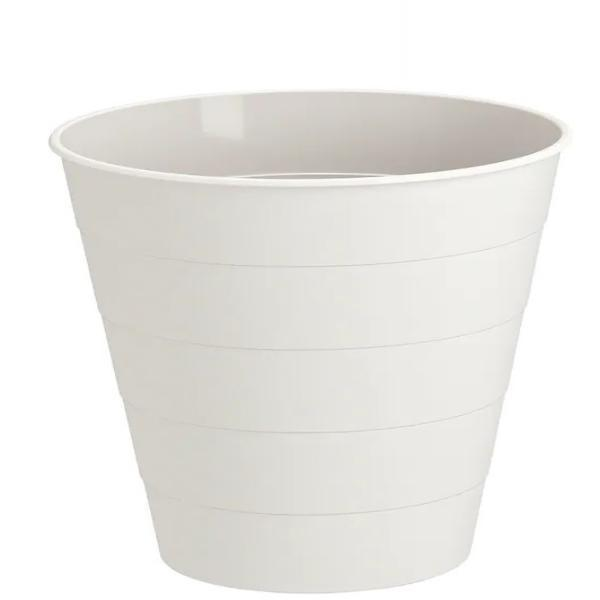Bote de Basura: (36, 74, 548, 585)
